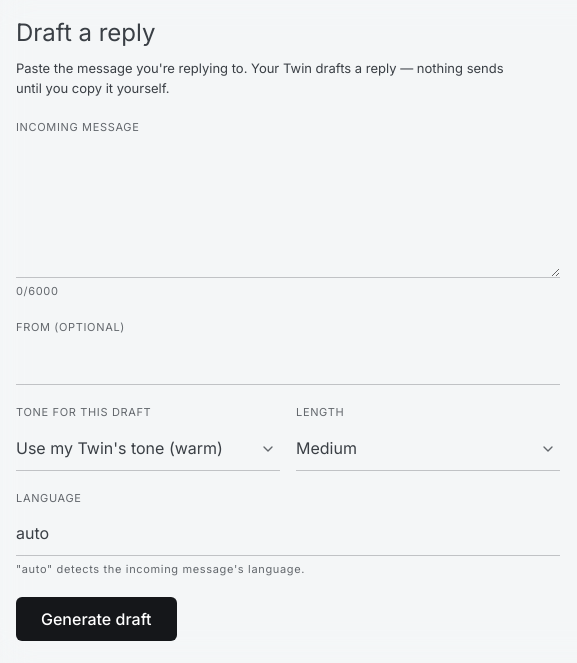
Test: TwinDraftWorkspace — draft review and the draft-only label › shows the real provenance counts and the real quota line from the response, not fabricated numbers
In the text box labelled "Incoming message": (288, 210) [16, 141, 560, 278], type "Can you send the update today?"
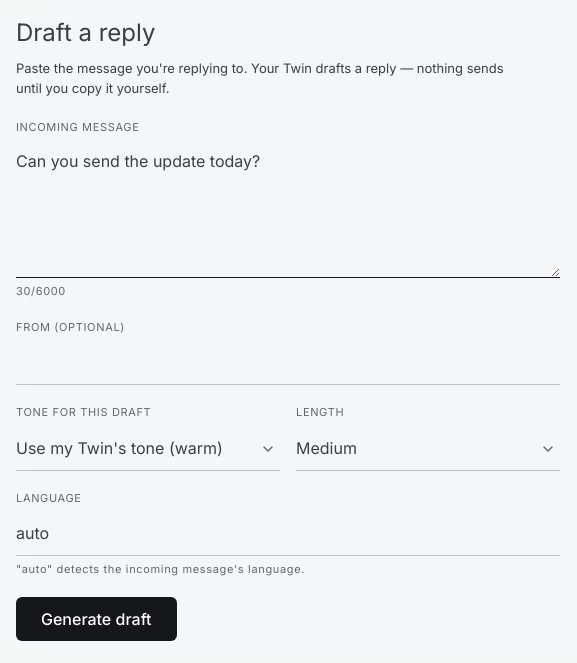
Click the button "Generate draft": click(96, 619) [16, 597, 177, 641]
(page scrolled)
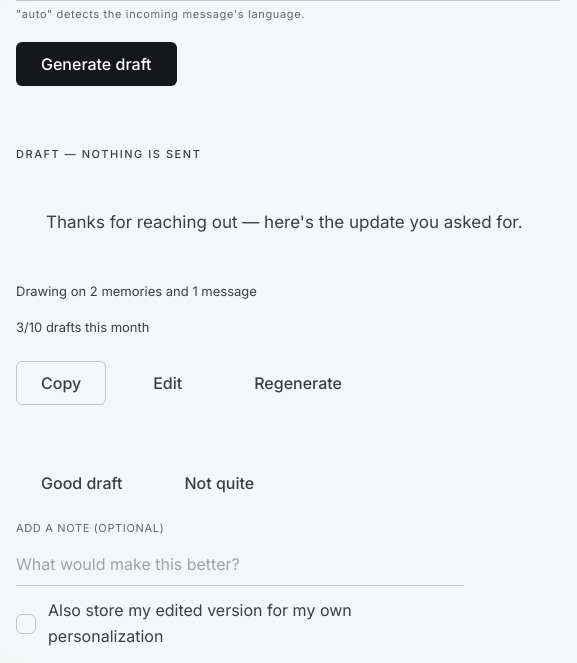
expect the text "Drawing on 2 memories and 1 message" is shown: met, box [16, 283, 257, 299]
expect the text "3/10 drafts this month" is shown: met, box [16, 319, 150, 335]
